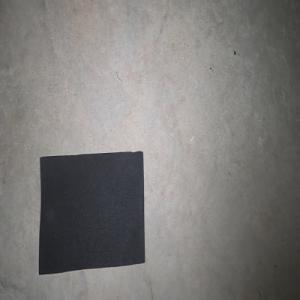PaintChip: (38, 151, 145, 275)
